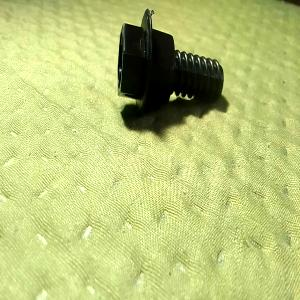parafuso: (117, 8, 224, 112)
